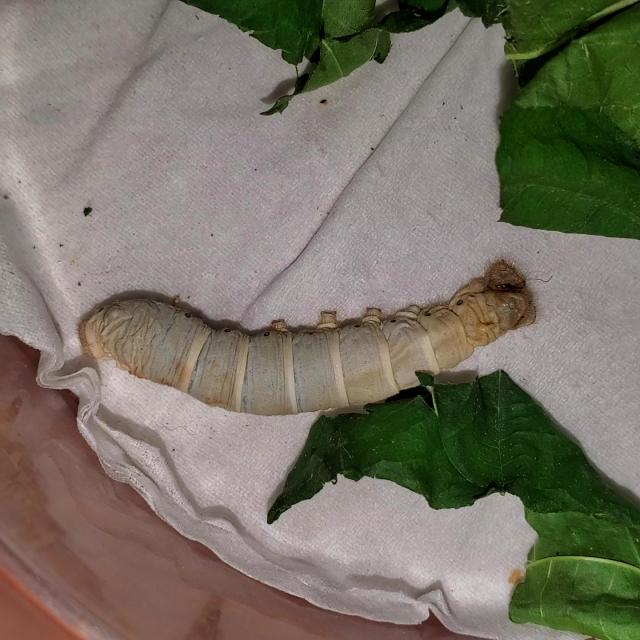Grasserie: (69, 269, 545, 462)
